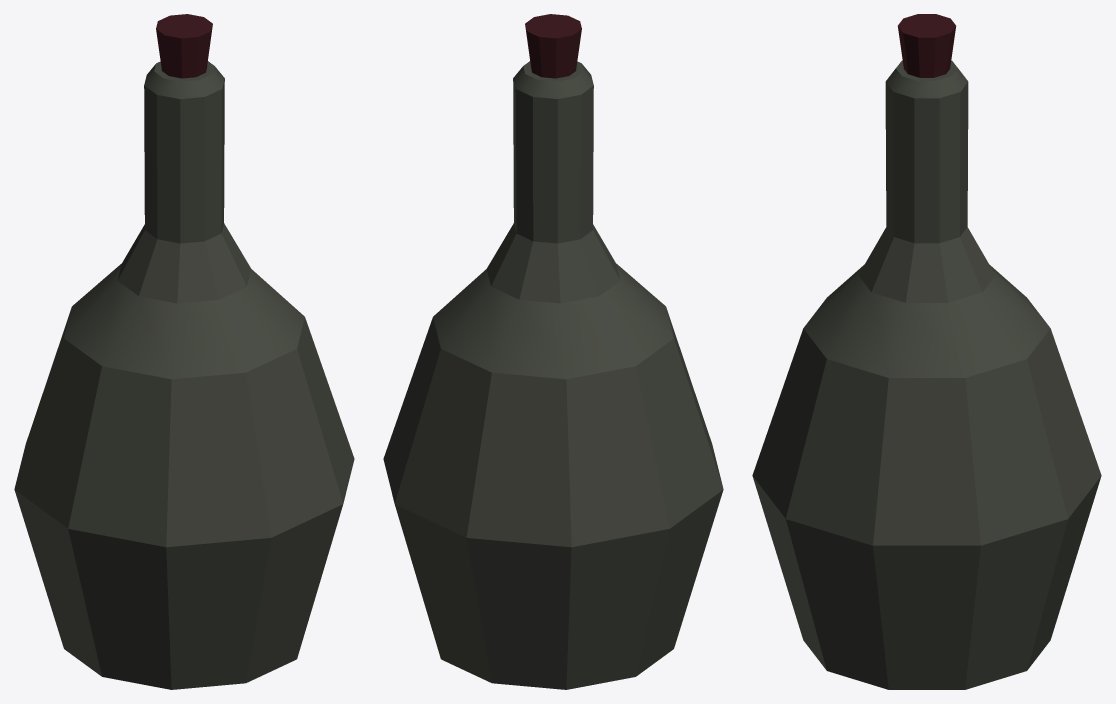
Rendered from Bottle.fbx.
3 renders of one model, left to right at view 1: azimuth 30°, elevation 25°; view 2: azimuth 150°, elevation 25°; view 3: azimuth 270°, elevation 25°, orthographic.
Visible parts, largest first — view 1: Bottle 3.001; view 2: Bottle 3.001; view 3: Bottle 3.001.
Part boxes in pixels (x1=…): Bottle 3.001: x1=14, y1=14, x2=354, y2=689; Bottle 3.001: x1=383, y1=14, x2=723, y2=689; Bottle 3.001: x1=752, y1=14, x2=1101, y2=689.
Bounding box in the file's own units: 38.23 × 78.04 × 40.19.
